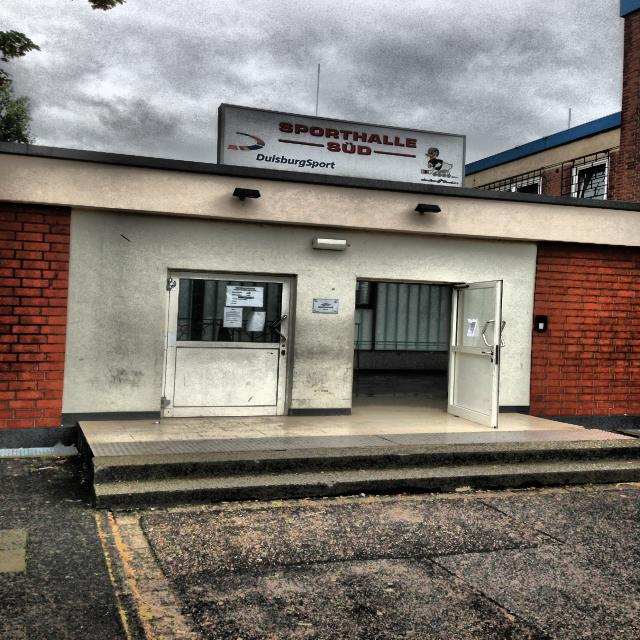escada: (78, 440, 636, 506)
